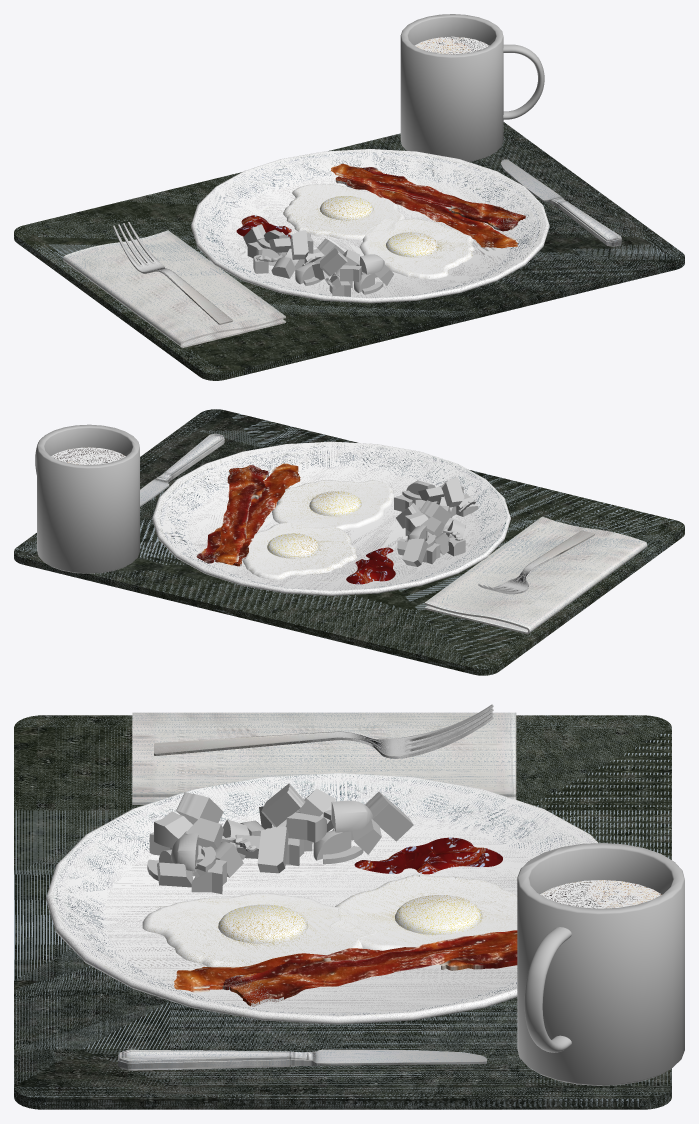
Rendered from breakfast.dae.
The picture shows the model from 3 angles, top to bottom: view 1: azimuth 30°, elevation 25°; view 2: azimuth 150°, elevation 25°; view 3: azimuth 270°, elevation 25°; orthographic projection. The views are drawn at different scales.
Parts seen in each view (by area): view 1: SketchUp, group_1, Coffee_Mug_11-18-2012 (×3), group_0, group_5 (×2), group_3 (×2), group_7, group_6, group_49, group_48, group_50; view 2: SketchUp, group_1, Coffee_Mug_11-18-2012 (×3), group_0, group_3 (×2), group_5 (×2), group_7, group_6, group_49, group_48, Ketchup_Puddle, group_10 (+2 smaller); view 3: SketchUp, group_1, Coffee_Mug_11-18-2012 (×3), group_0, group_5 (×2), group_3 (×2), group_7 (×2), group_48, group_49, group_6, Ketchup_Puddle, group_50 (+14 smaller).
Boxes of the visible parts, box(x1,y1,x2,y2) form: SketchUp: box(14, 122, 684, 380); group_1: box(191, 149, 549, 303); Coffee_Mug_11-18-2012 (×3): box(400, 14, 503, 161); group_0: box(63, 230, 285, 347); group_5 (×2): box(359, 218, 474, 279); group_3 (×2): box(283, 184, 405, 239); group_7: box(331, 163, 525, 231); group_6: box(347, 169, 517, 248); group_49: box(113, 222, 232, 324); group_48: box(501, 159, 621, 245); group_50: box(503, 44, 544, 119); SketchUp: box(14, 409, 684, 675); group_1: box(152, 441, 510, 595); Coffee_Mug_11-18-2012 (×3): box(37, 424, 139, 573); group_0: box(424, 516, 647, 634); group_3 (×2): box(243, 519, 357, 579); group_5 (×2): box(272, 480, 394, 529); group_7: box(213, 473, 268, 564); group_6: box(205, 463, 300, 566); group_49: box(478, 530, 594, 594); group_48: box(140, 433, 224, 506); Ketchup_Puddle: box(346, 547, 395, 584); group_10: box(402, 538, 428, 566); SketchUp: box(14, 715, 671, 1109); group_1: box(46, 773, 598, 1024); Coffee_Mug_11-18-2012 (×3): box(517, 843, 684, 1085); group_0: box(132, 712, 516, 804); group_5 (×2): box(142, 893, 376, 967); group_3 (×2): box(329, 874, 517, 950); group_7 (×2): box(222, 930, 517, 1006); group_48: box(118, 1049, 486, 1069); group_49: box(154, 704, 493, 758); group_6: box(174, 947, 517, 992); Ketchup_Puddle: box(354, 837, 502, 874); group_50: box(524, 927, 571, 1052).
Size of the model in its own units: 19.42 by 13.99 by 4.25.
